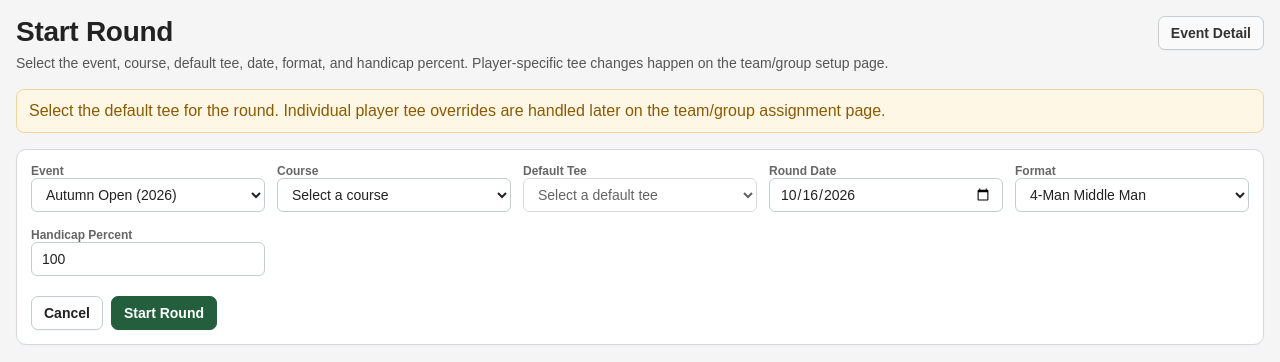
Test case: Round setup page characterization (before extraction) › loads course tees and automatically selects the only available tee
This screenshot has width=1280, height=362.
Expected: the dropdown labelled "Event" is shown, [31,178,265,212]
Expected: the dropdown labelled "Default Tee" is disabled, [523,178,757,212]
Step 1. Select "Lake Course — North Hills" in the dropdown labelled "Course" → (394, 195), box [277,178,511,212]
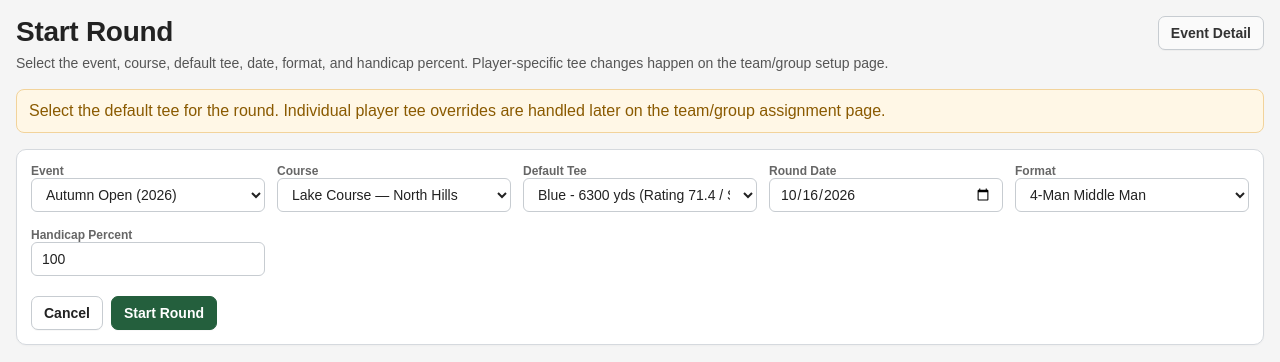
Expected: the dropdown labelled "Default Tee" shows "Blue - 6300 yds (Rating 71.4 / Slope 128) eff. 2026-01-01", [523,178,757,212]
